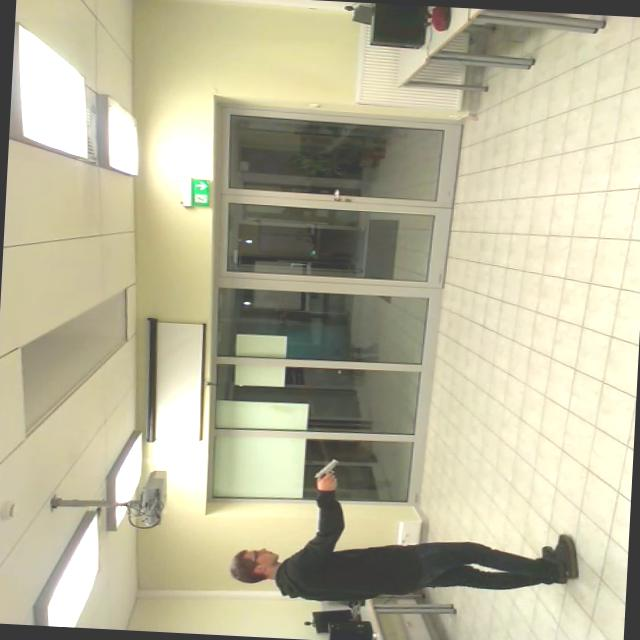handgun: (305, 449, 357, 497)
